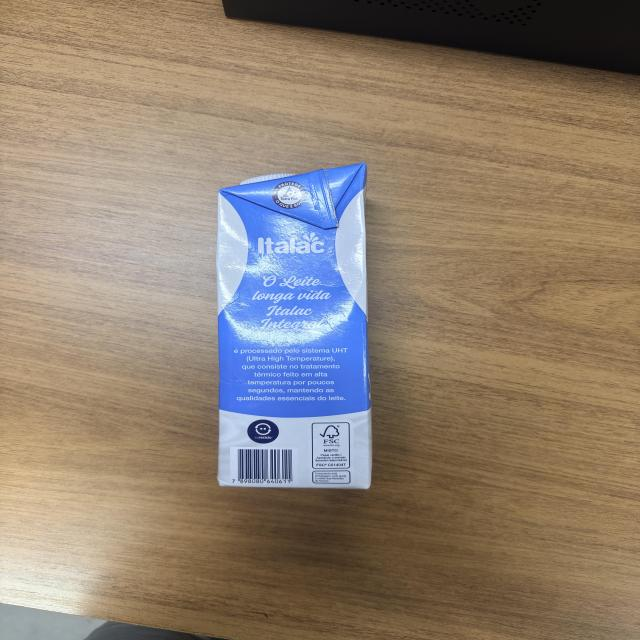Caixa de Leite: (217, 167, 378, 491)
